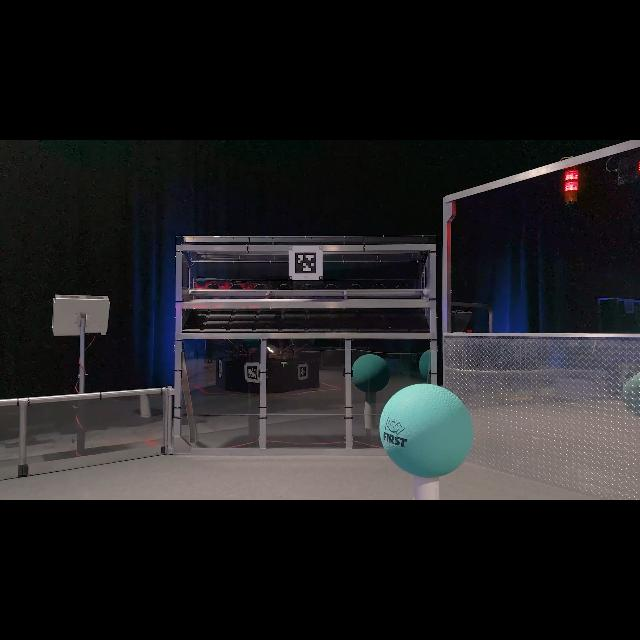ALGAE: (380, 384, 474, 476)
CORAL: (412, 474, 440, 500)
